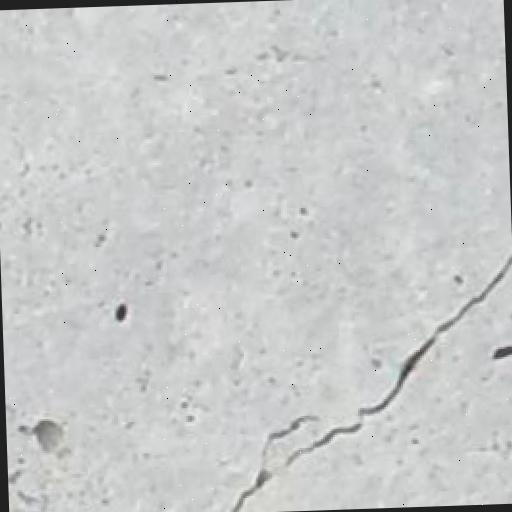spalling: (216, 239, 512, 512)
